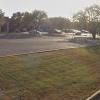Tree: (75, 7, 100, 42)
